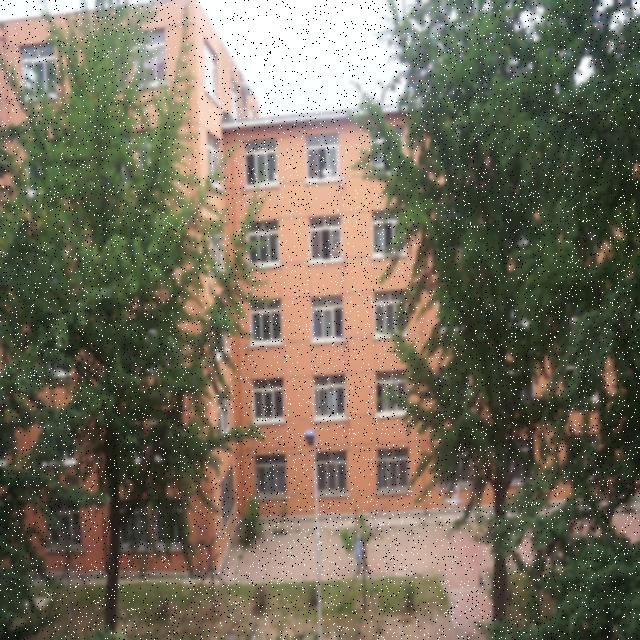UAV: (443, 493, 464, 512)
